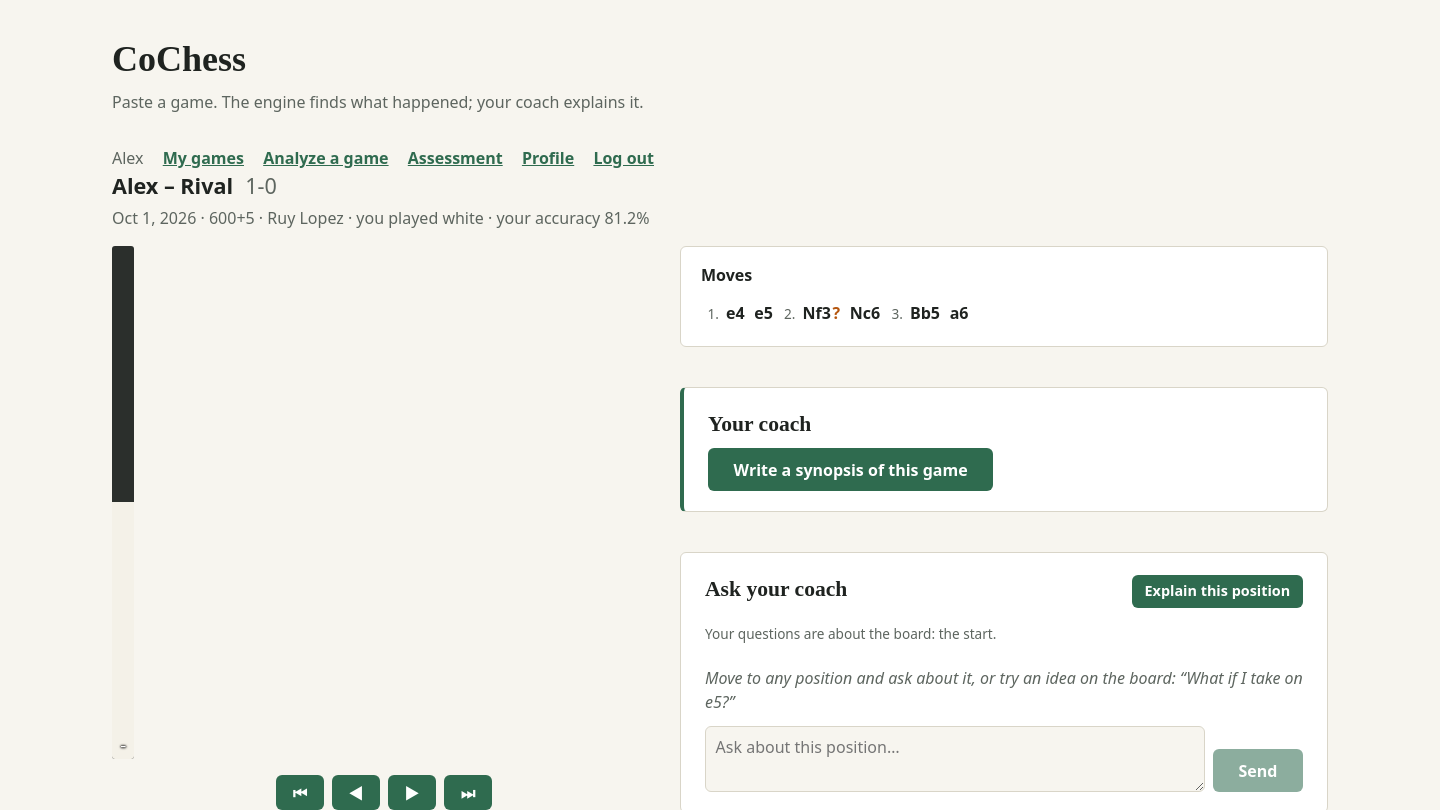
Scenario: a what-if question in the chat runs the deep tier on the engine
Step 1. Type "What if e5?" into the text box named "Your question" → (955, 759), box [705, 726, 1205, 792]
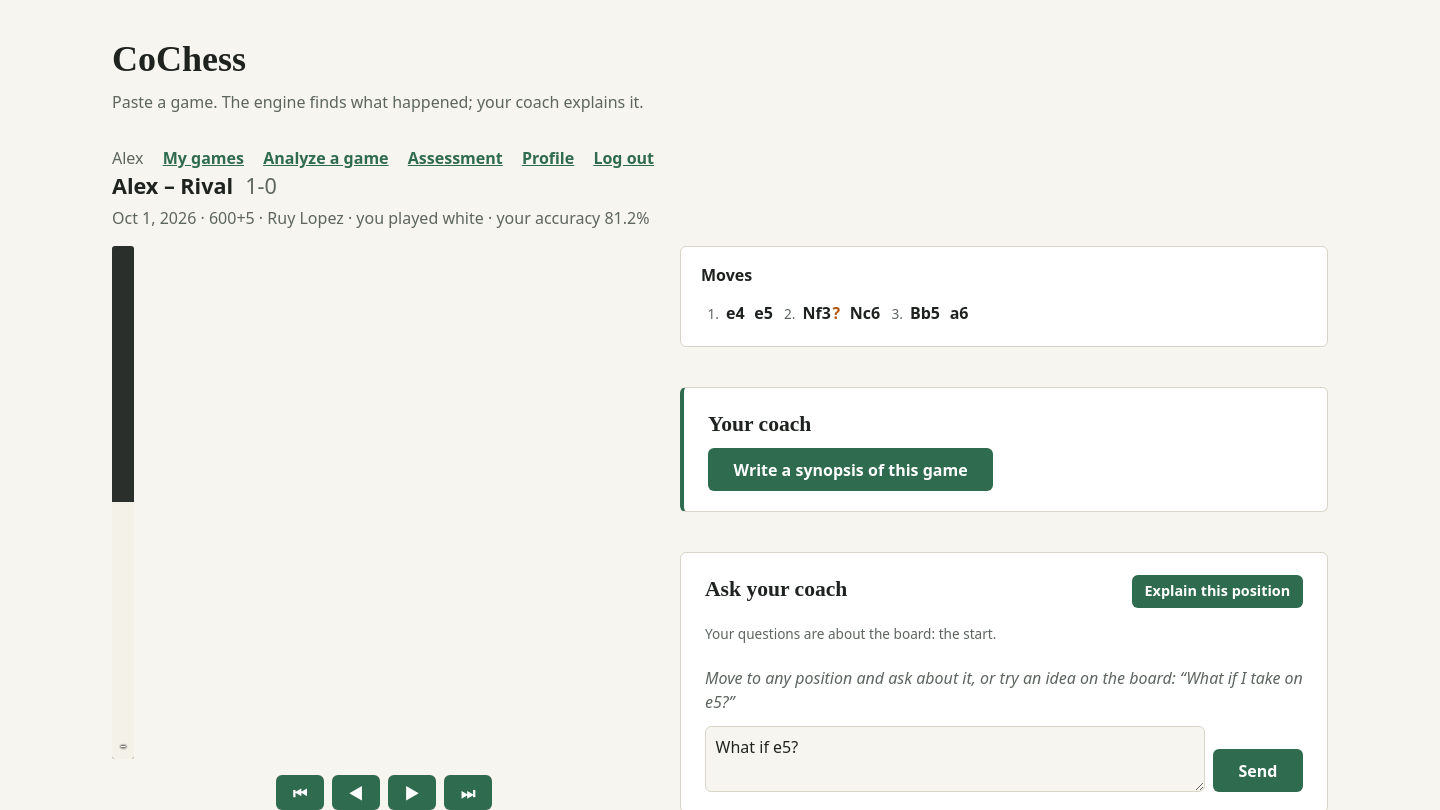
Step 2. Click the button "Send" → (1258, 771), box [1213, 749, 1303, 792]
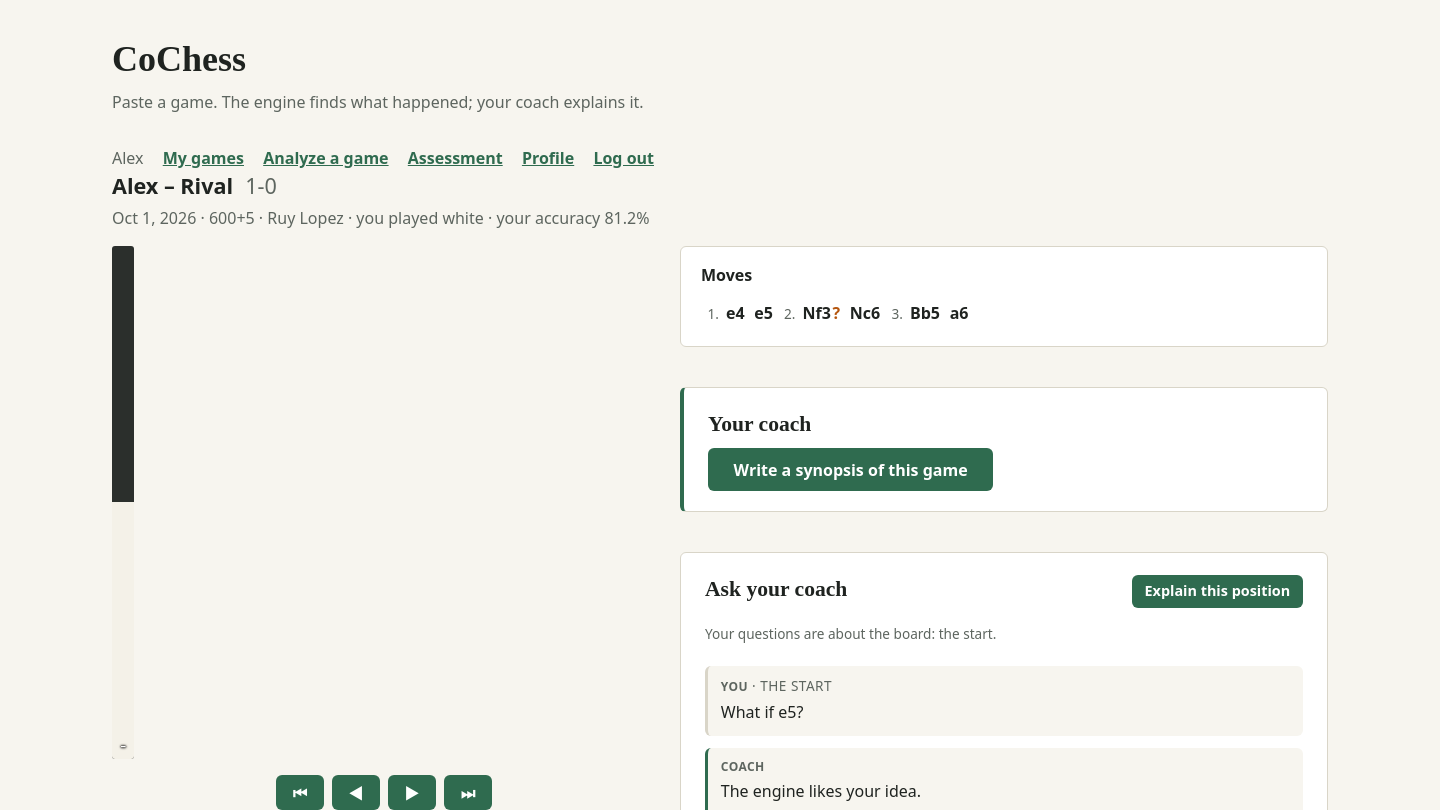
Now the text "The engine likes your idea." is shown, box [721, 780, 921, 802]
